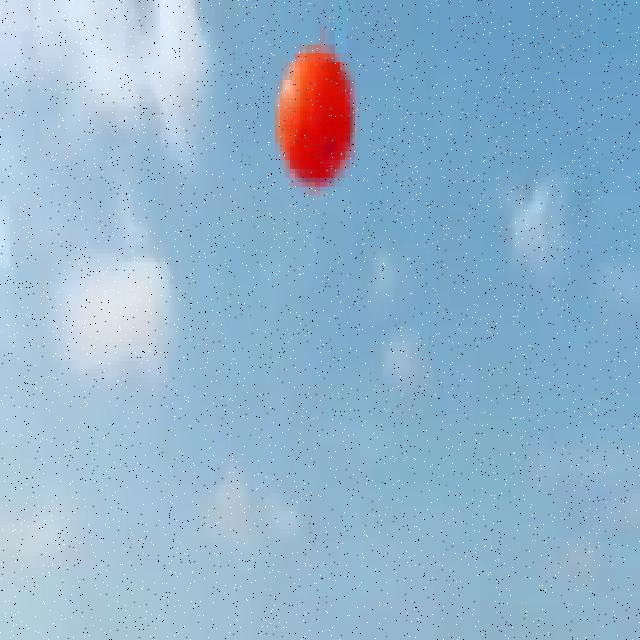red: (275, 27, 355, 189)
